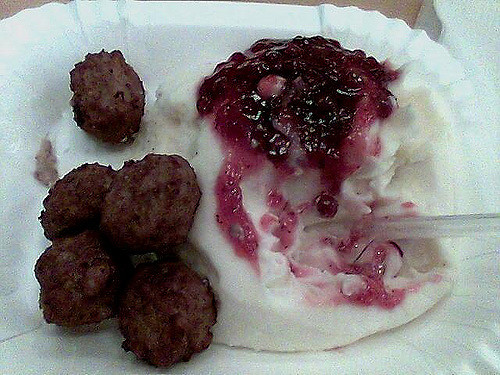meatballs: (38, 162, 214, 360), (65, 52, 143, 142)
